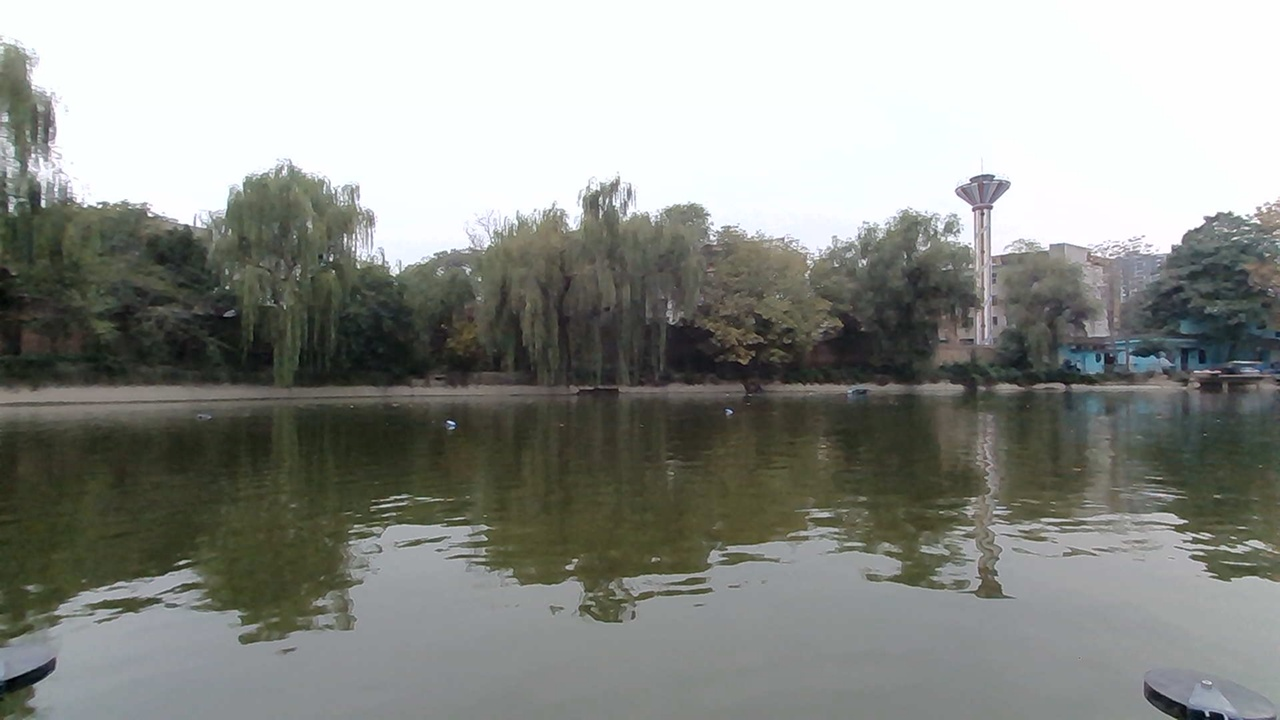bottle: (437, 406, 479, 435), (714, 398, 745, 419), (191, 406, 219, 427)
